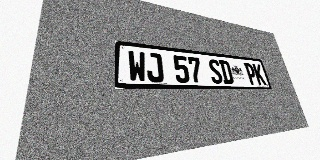5: (173, 55, 190, 83)
7: (186, 57, 204, 83)
D: (218, 60, 234, 84)
J: (145, 52, 164, 83)
K: (252, 63, 266, 85)
P: (243, 63, 258, 85)
S: (207, 59, 224, 84)
W: (127, 50, 147, 82)
